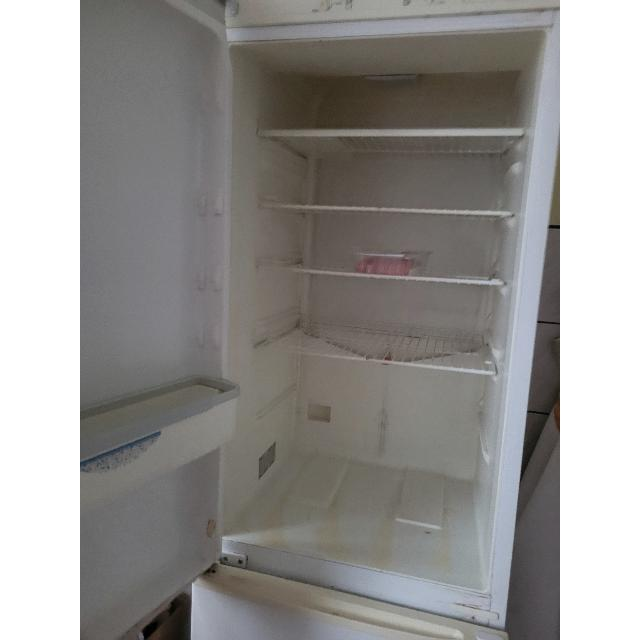meat: (357, 256, 417, 276)
